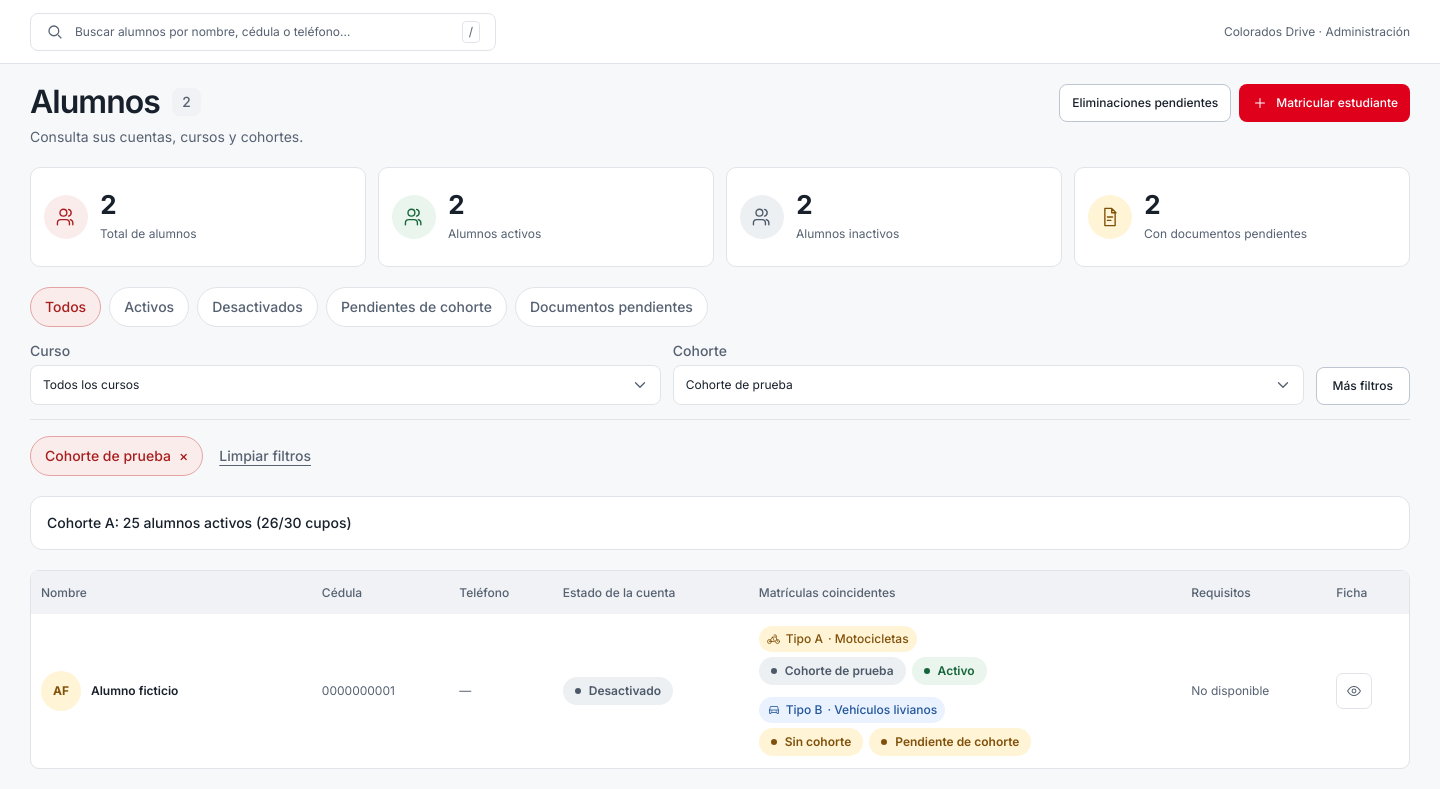
Test: Búsqueda mejorada › muestra el total de cohorte independiente de página y búsqueda
Expected: the text "Cohorte A: 25 alumnos activos (26/30 cupos)" is shown, [47,514,352,531]
Type "José" into the search field named "Buscar por nombre, cédula o teléfono".
click(263, 32); type("José")  # box [30,12,496,50]
Wait 350 ms
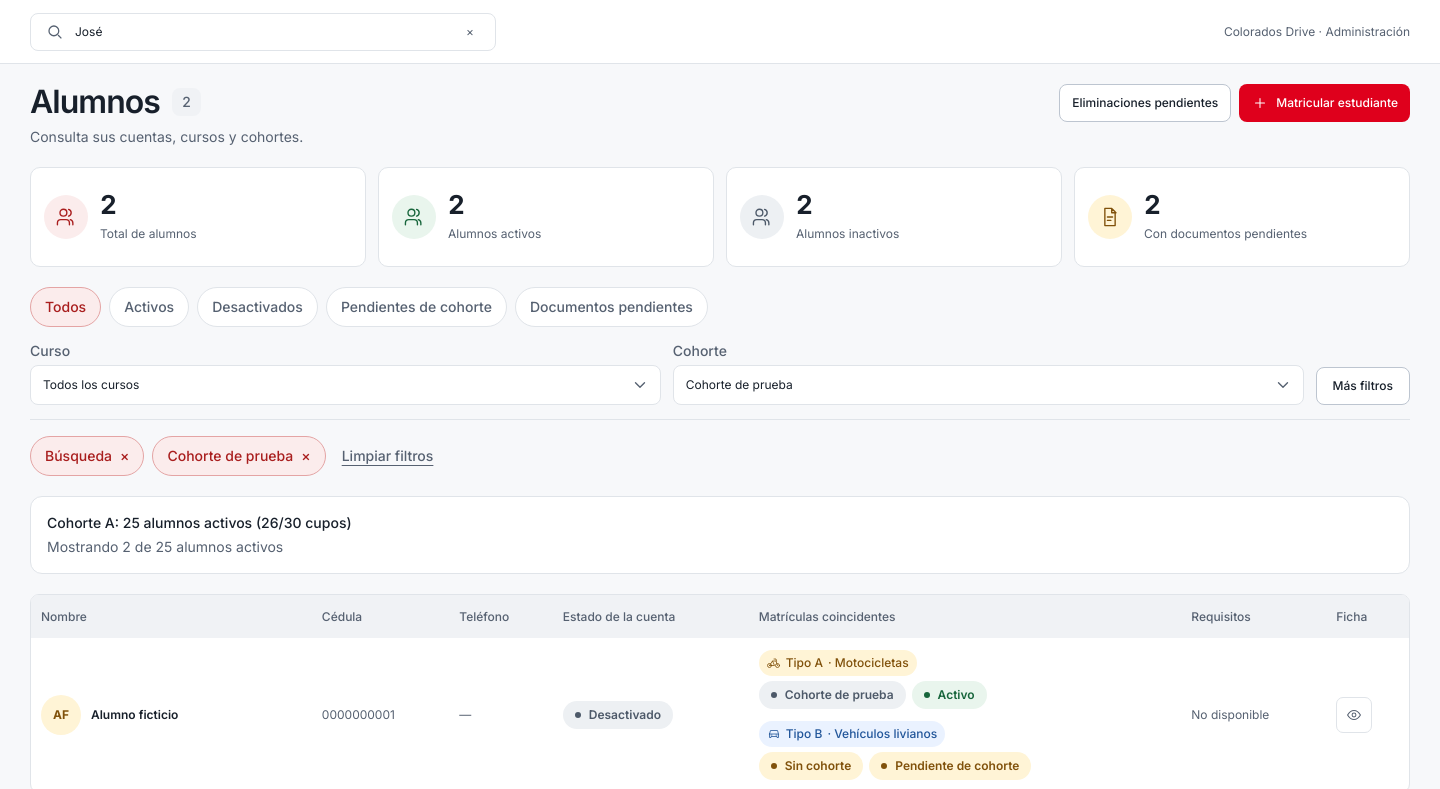
Result: the text "Mostrando 2 de 25 alumnos activos" is shown at [47,538,283,555]
